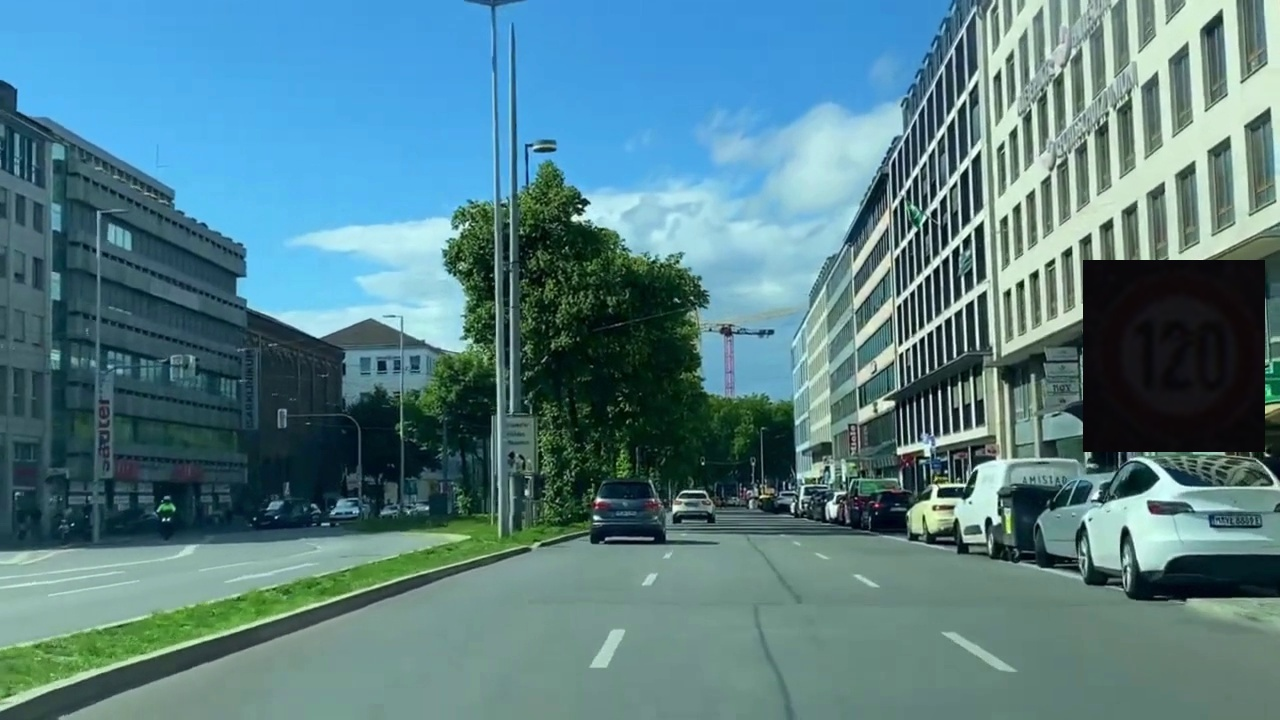Speed 120: (1083, 260, 1265, 452)
